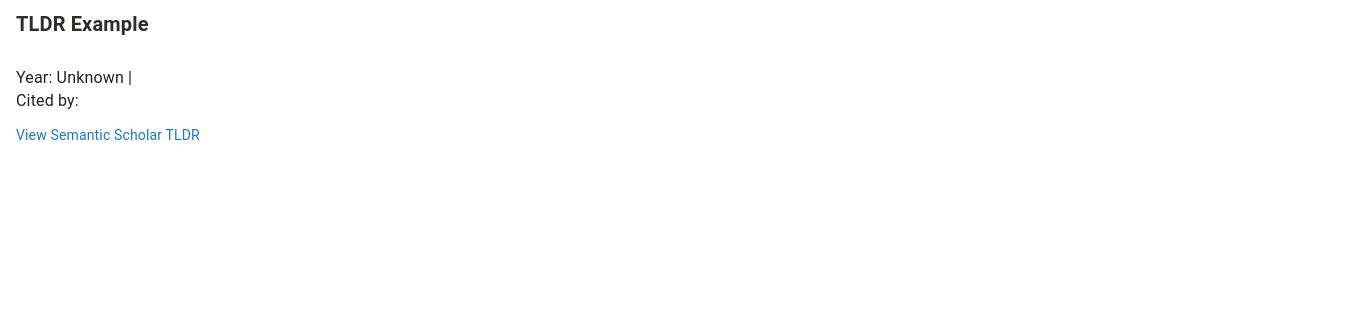
Test case: paper abstract summary action › displays Semantic Scholar TLDR directly without submitting it as an abstract
Click the text "View Semantic Scholar TLDR".
click(108, 135)  # box [16,125,200,145]
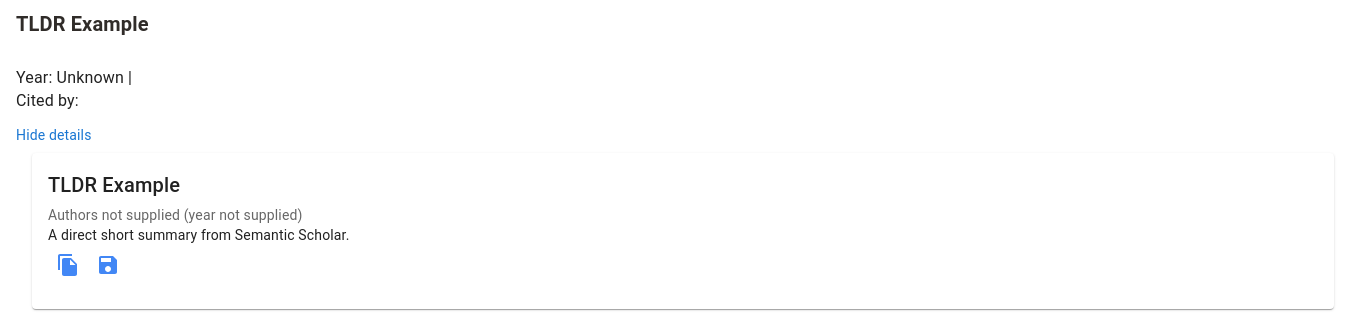
Result: the text "A direct short summary from Semantic Scholar." is shown at [48,227,350,243]
